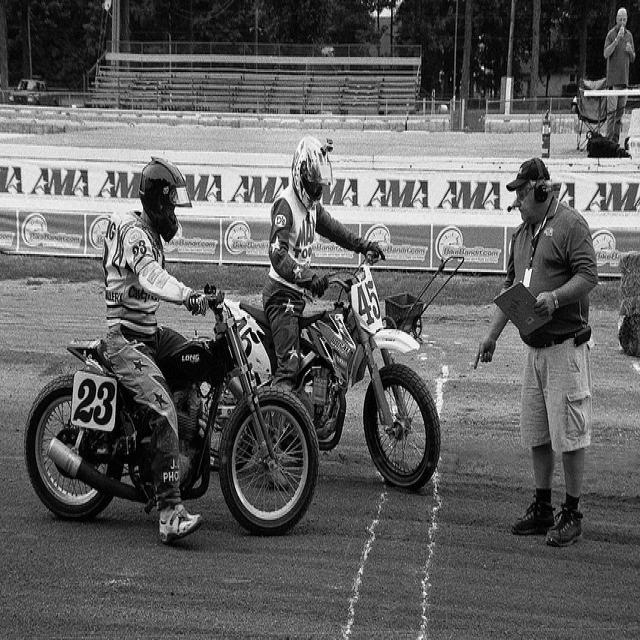motor: (25, 285, 318, 535), (240, 256, 443, 492)
